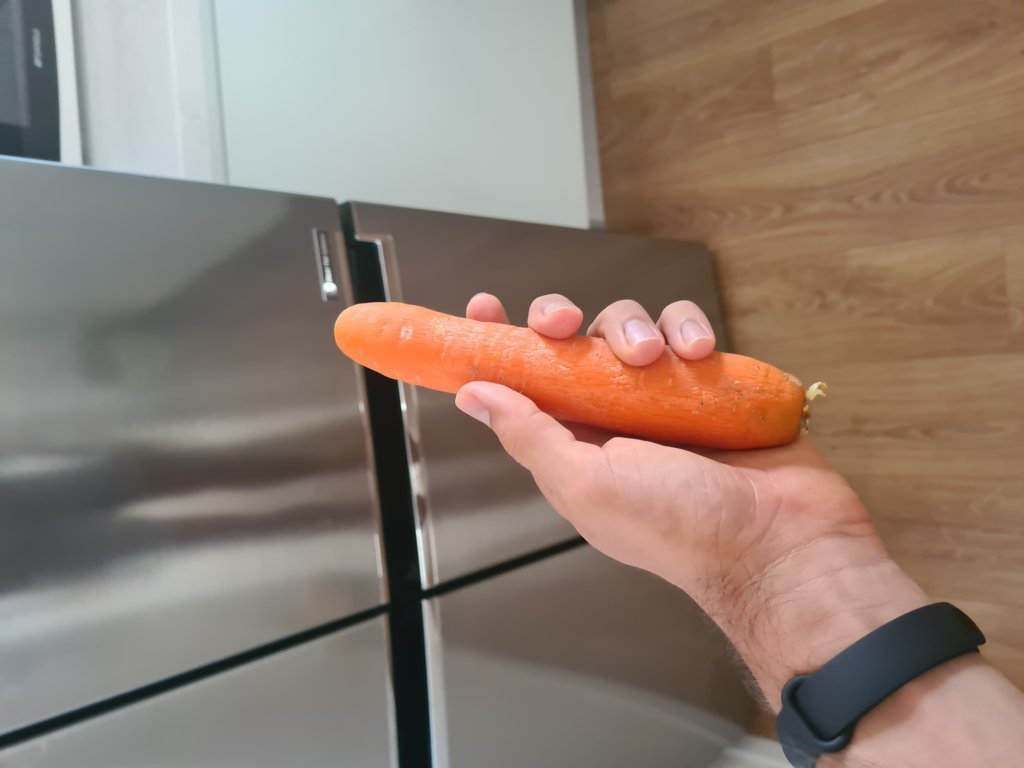carrot: (337, 292, 815, 457)
